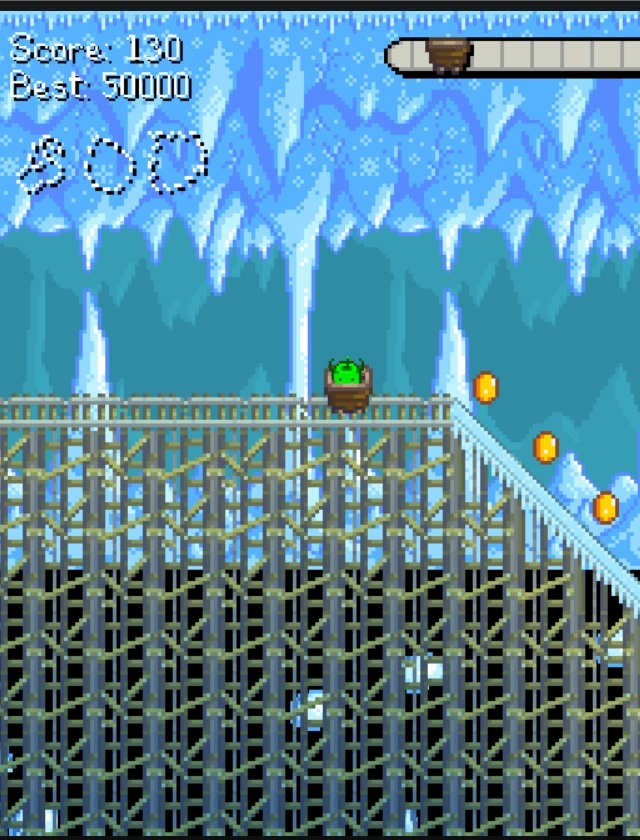coins: (592, 492, 619, 524), (533, 431, 558, 463), (474, 371, 498, 404)
minecart: (324, 358, 371, 412)
score: (124, 31, 185, 65)
tracks: (0, 384, 639, 625)
